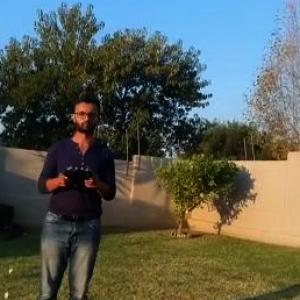follow: (29, 86, 123, 299)
